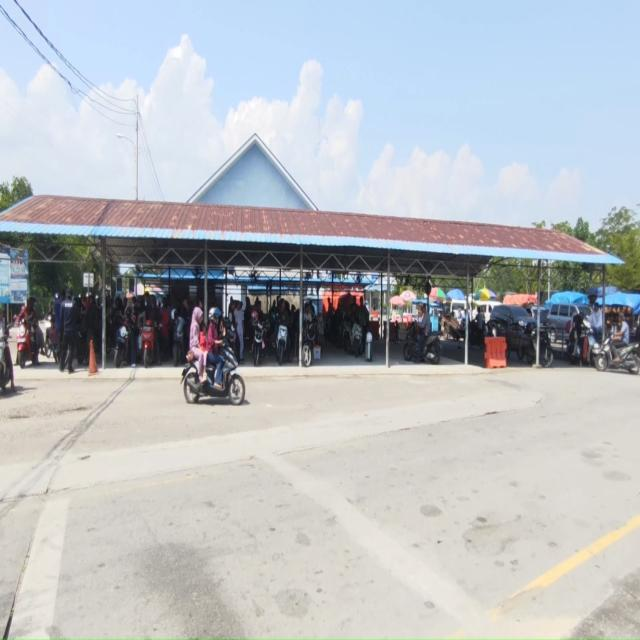Golongan II: (181, 323, 245, 405), (591, 336, 640, 374), (517, 323, 554, 368), (403, 322, 441, 364), (567, 314, 597, 365), (16, 320, 39, 369), (140, 320, 156, 369), (114, 320, 130, 369), (0, 327, 11, 391), (302, 320, 316, 368), (172, 316, 185, 367), (252, 320, 266, 366), (44, 326, 59, 364), (276, 324, 288, 365), (339, 317, 352, 353), (349, 322, 362, 357)
